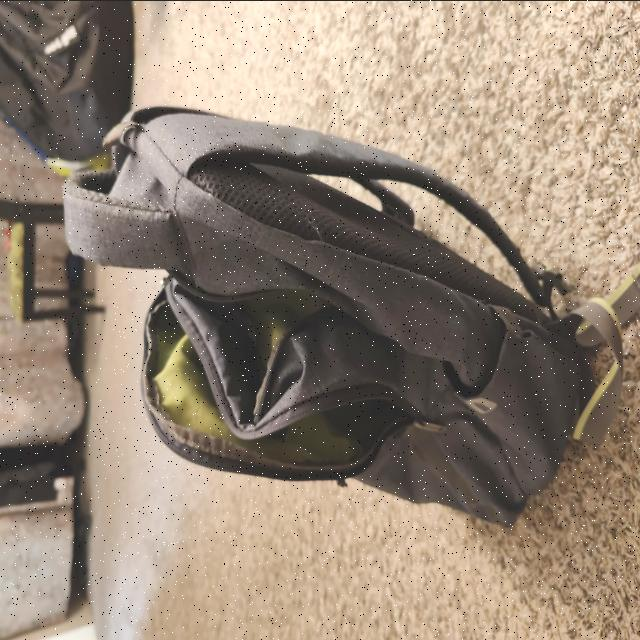bag: (71, 120, 582, 514)
